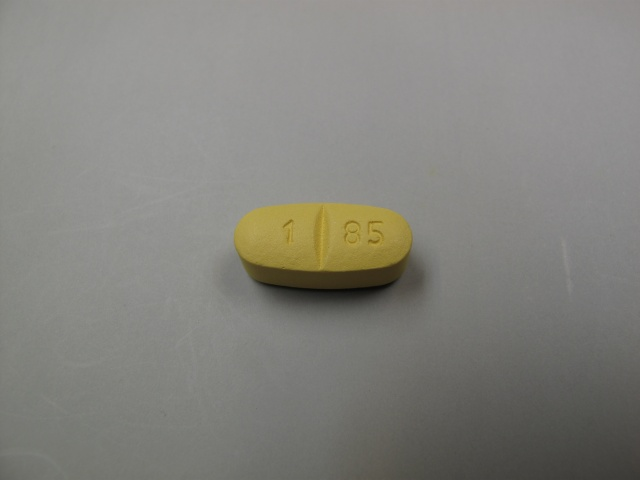1: (279, 215, 303, 250)
5: (365, 218, 386, 250)
8: (339, 219, 362, 250)
|: (310, 198, 334, 276)
